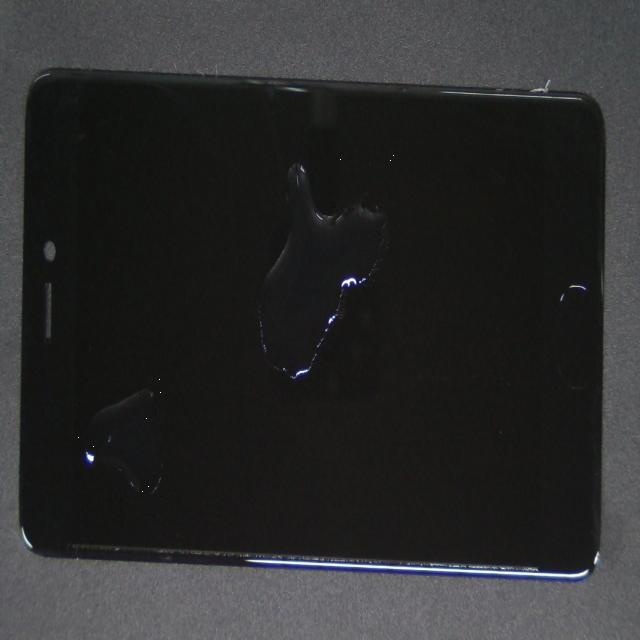oil: (18, 195, 132, 640), (174, 143, 475, 288)
